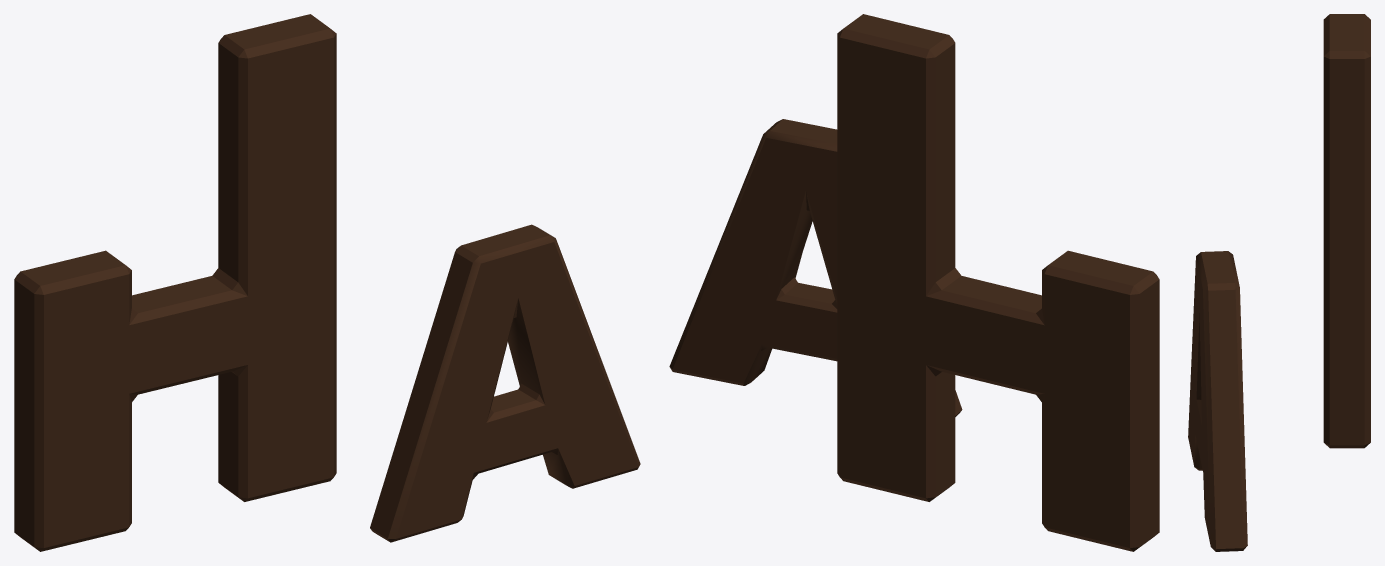
Rendered from cgt_Accessory_17_001.fbx.
3 renders of one model, left to right at view 1: azimuth 30°, elevation 25°; view 2: azimuth 150°, elevation 25°; view 3: azimuth 270°, elevation 25°, orthographic. The views are drawn at different scales.
Parts seen in each view (by area): view 1: cgt_Accessory_17_001; view 2: cgt_Accessory_17_001; view 3: cgt_Accessory_17_001.
Part boxes in pixels (x1,y1,x2,y2): cgt_Accessory_17_001: (14, 14, 640, 551); cgt_Accessory_17_001: (669, 14, 1159, 551); cgt_Accessory_17_001: (1188, 14, 1370, 551).
Bounding box in the file's own units: 31.32 × 10.43 × 25.01.
